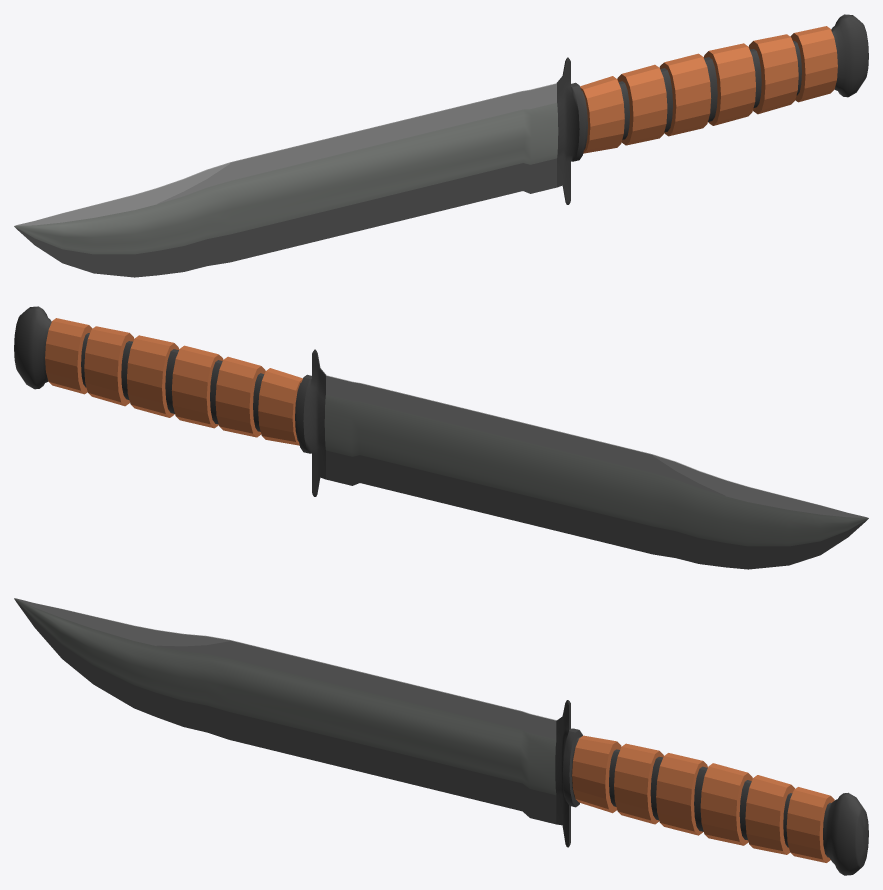
File: low_poly_combat_knife.glb
3 views of the same model, one above another, from view 1: azimuth 30°, elevation 25°; view 2: azimuth 150°, elevation 25°; view 3: azimuth 330°, elevation 25° (orthographic).
Parts seen in each view (by area): view 1: Cylinder (×5), Cylinder.003, Cylinder.004, Cylinder.005, Cylinder.002, Cylinder.006, Cylinder.001; view 2: Cylinder (×5), Cylinder.003, Cylinder.004, Cylinder.005, Cylinder.002, Cylinder.006, Cylinder.001; view 3: Cylinder (×5), Cylinder.003, Cylinder.004, Cylinder.002, Cylinder.005, Cylinder.006, Cylinder.001.
Part boxes in pixels (x1,y1,x2,y2): Cylinder (×5): (14,14,868,277); Cylinder.003: (703,43,755,125); Cylinder.004: (659,53,711,136); Cylinder.005: (617,64,667,145); Cylinder.002: (748,34,798,114); Cylinder.006: (580,76,624,153); Cylinder.001: (790,26,837,102); Cylinder (×5): (14,306,868,569); Cylinder.003: (127,335,179,417); Cylinder.004: (171,345,223,428); Cylinder.005: (215,356,265,437); Cylinder.002: (84,326,134,406); Cylinder.006: (258,368,302,445); Cylinder.001: (45,318,92,394); Cylinder (×5): (14,598,868,875); Cylinder.003: (700,763,752,845); Cylinder.004: (656,753,707,835); Cylinder.002: (745,775,794,854); Cylinder.005: (614,743,663,824); Cylinder.006: (572,735,621,813); Cylinder.001: (786,787,834,862).
Size of the model in its own units: 7.55 by 1.25 by 0.3151.
